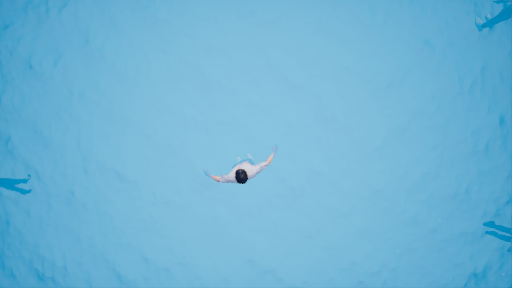person: (192, 139, 279, 189)
